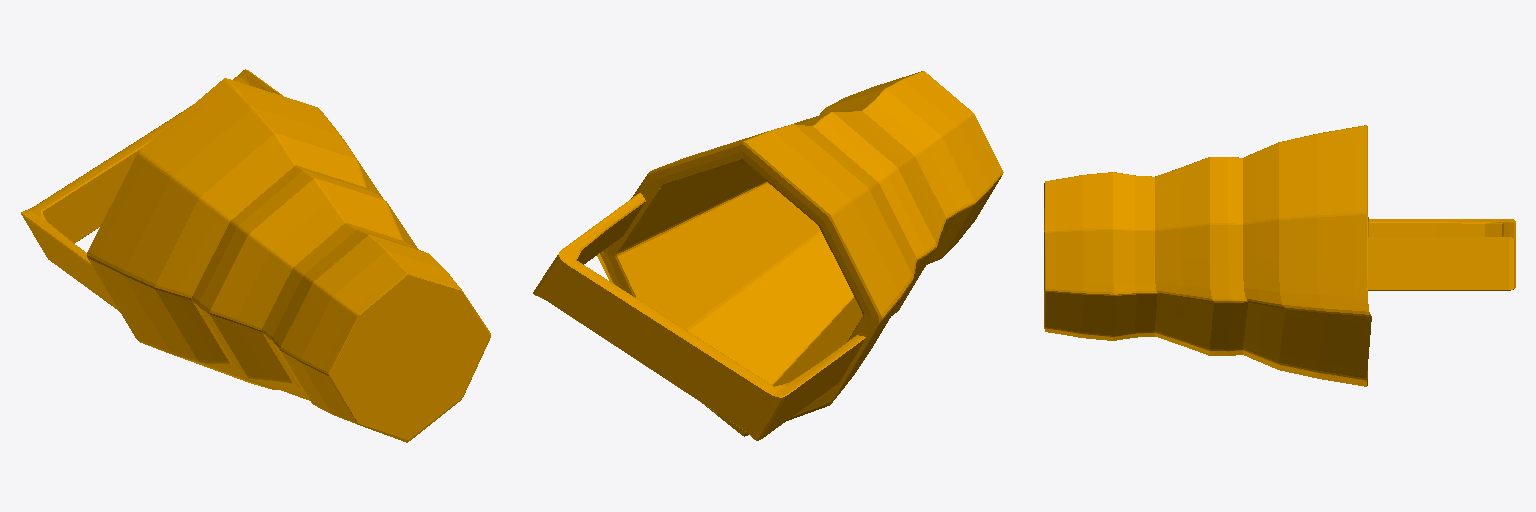
robot.urdf — 144:
<?xml version="1.0" ?>
<robot name="144">
  <link name="body">
    <visual>
      <geometry>
        <mesh filename="../shapes/144.obj"/>
      </geometry>
    </visual>
    <collision>
      <geometry>
        <mesh filename="../shapes/144.obj"/>
      </geometry>
    </collision>
  </link>
</robot>

--- What the picture shows (computed from the rendered views, not written in the file) ---
The picture shows the robot from 3 angles, left to right: view 1: azimuth 30°, elevation 25°; view 2: azimuth 150°, elevation 25°; view 3: azimuth 270°, elevation 25°; orthographic projection.
Model 144 with 1 links and 0 joints (none), rooted at body, posed every joint at zero.
Visible links, largest first — view 1: body; view 2: body; view 3: body.
Link boxes in pixels (x1,y1,x2,y2): body: (21, 69, 490, 442); body: (533, 71, 1003, 440); body: (1044, 125, 1515, 386).
Size in the robot's own frame: 3.09 by 5.02 by 3.07 metres.
1 mesh visuals loaded from 1 distinct referenced files (1 OBJ).